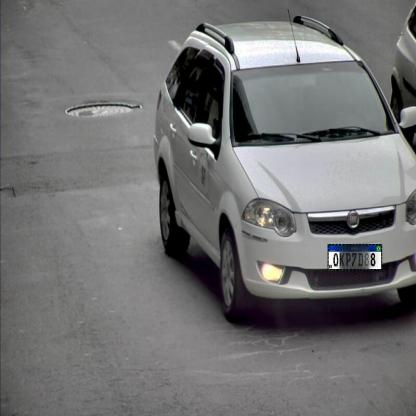PlacaM: (328, 244, 382, 270)
